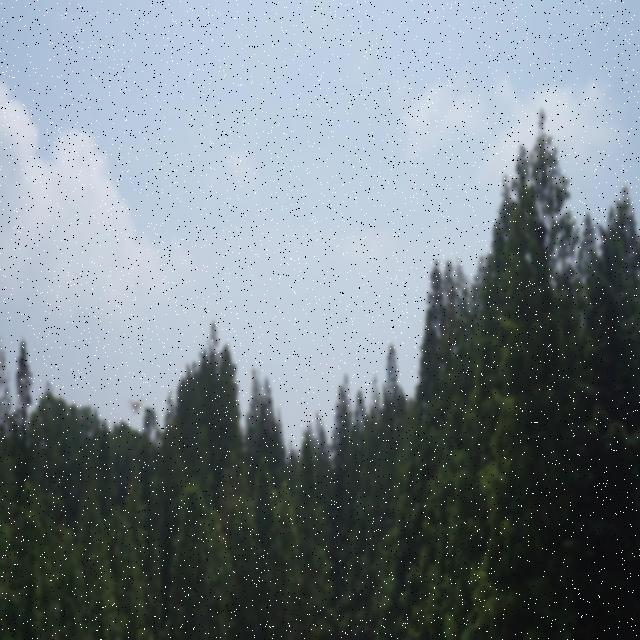UAV: (125, 399, 146, 415)
